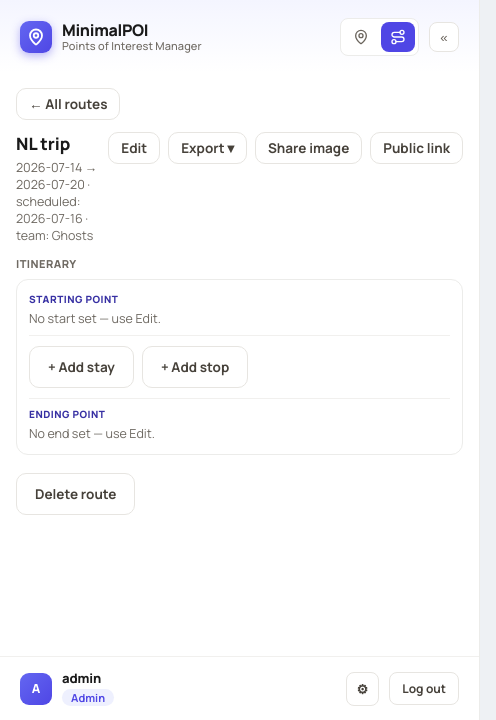
Scenario: RoutesPage › navigates back to the list when the back button is clicked
Click the button "← All routes".
click(68, 104)  # box [16,88,120,120]
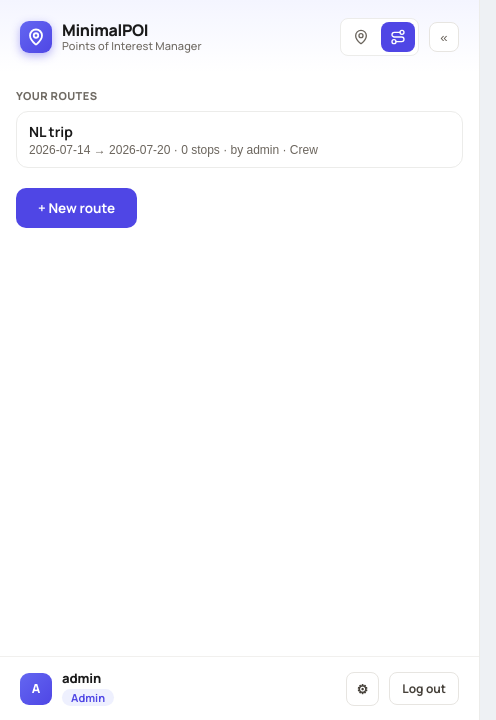
expect the button "All routes" is gone: met
